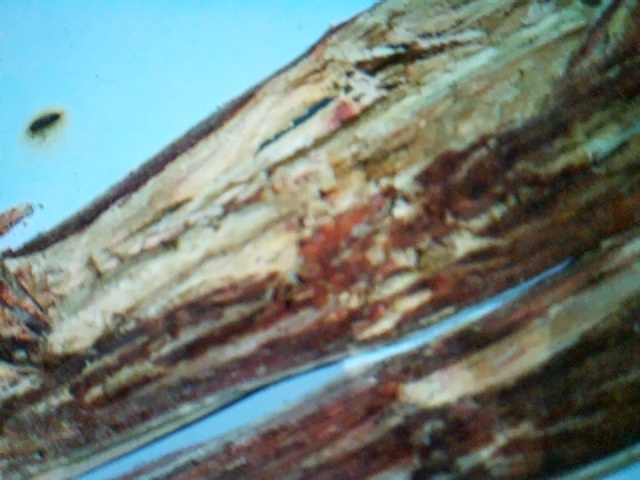Red-Rot: (2, 101, 640, 467)
